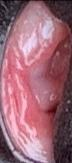eye_membrane: (1, 1, 72, 163)
